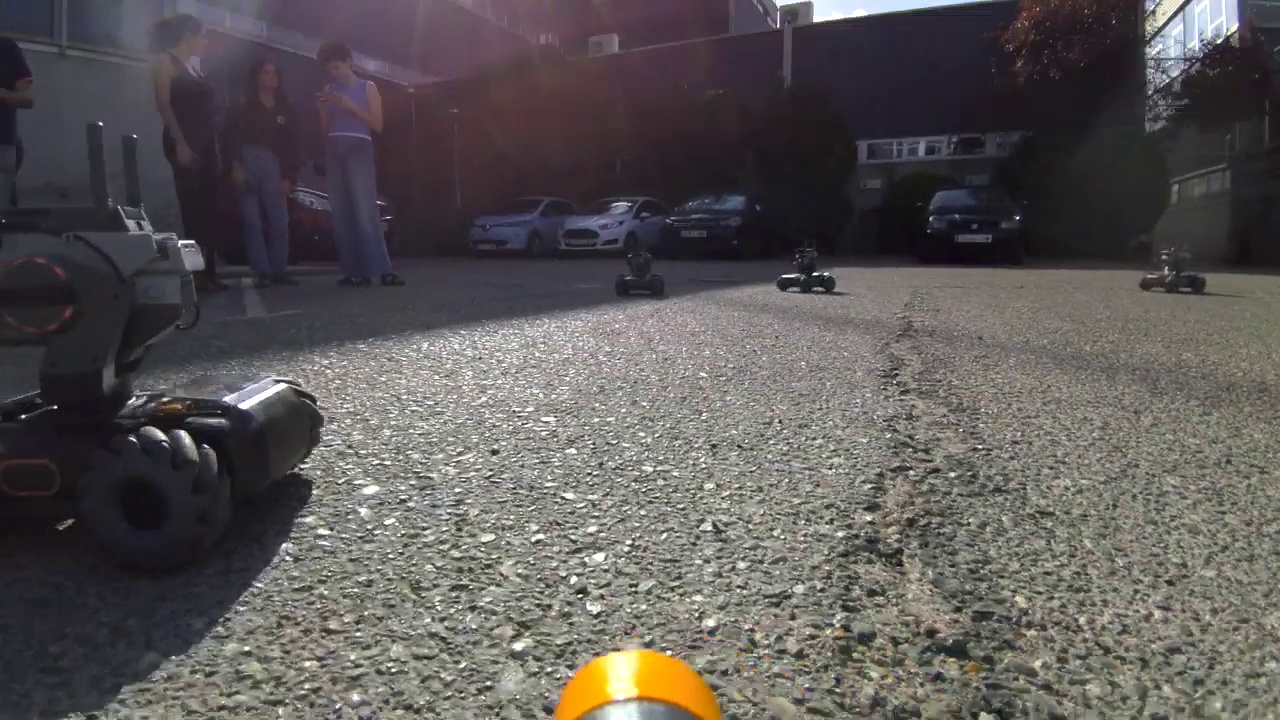robot: (2, 110, 325, 572), (1134, 238, 1215, 298), (768, 243, 844, 290), (613, 249, 672, 303)
